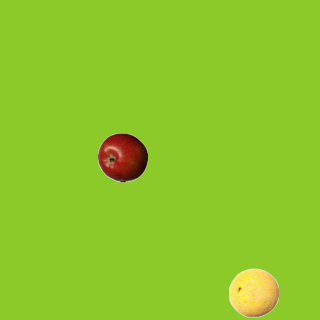Apple Braeburn: (97, 132, 147, 182)
Cantaloupe 1: (228, 267, 278, 317)
